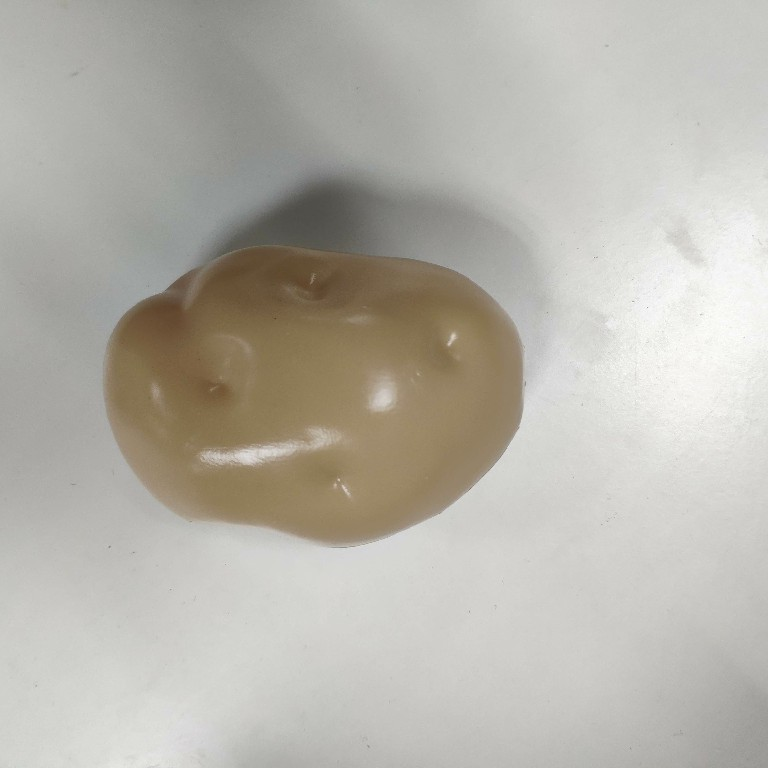fruit_potato: (91, 239, 530, 552)
